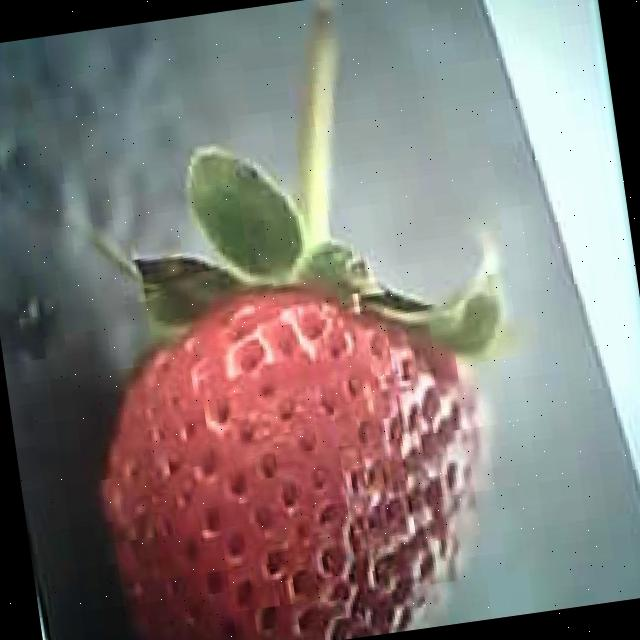strawberry: (78, 268, 521, 640)
